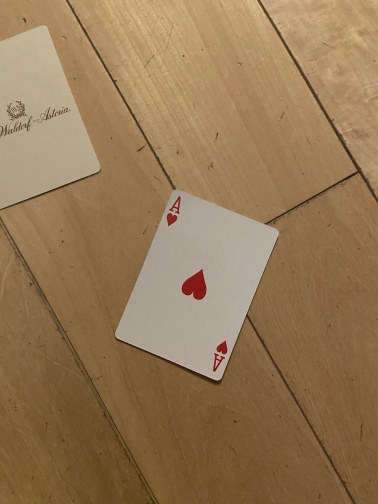ace: (113, 188, 280, 384)
